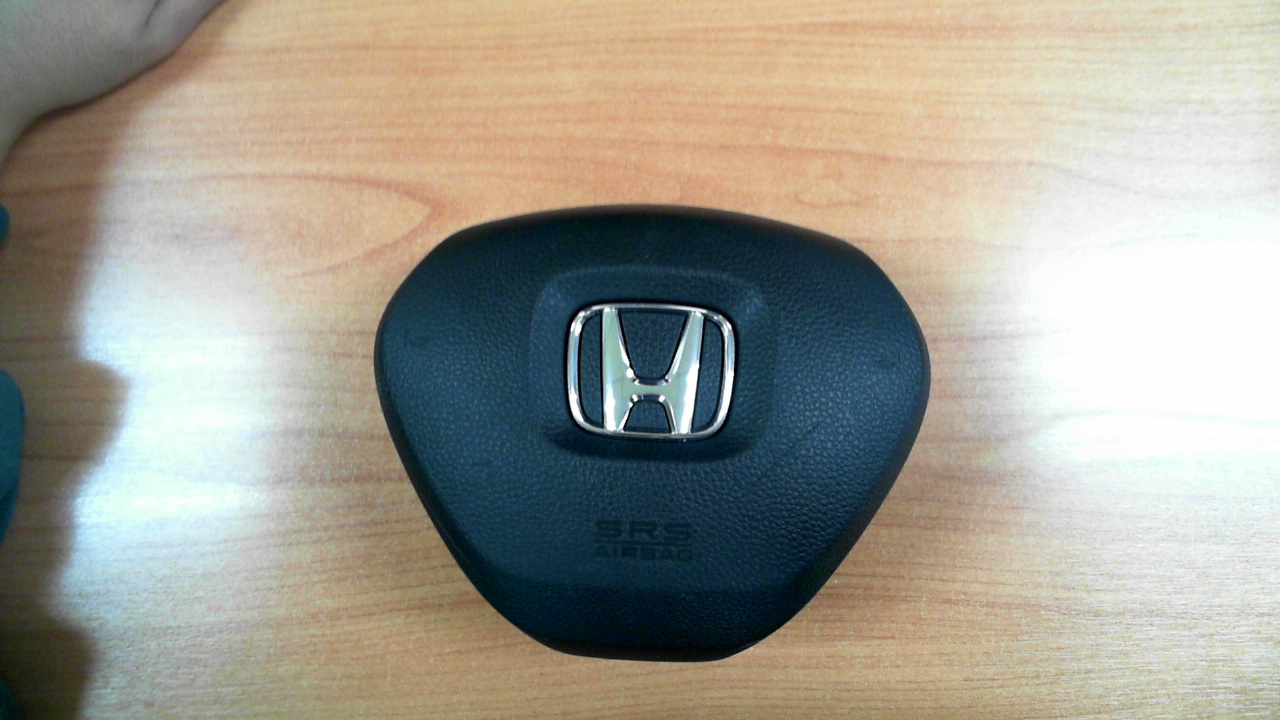Airbag: (372, 204, 931, 664)
Honda: (566, 302, 736, 442)
